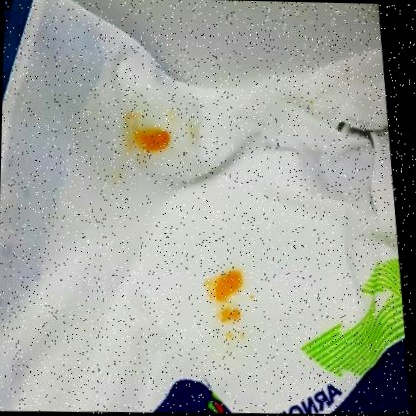kimchi: (126, 127, 173, 160), (212, 272, 244, 302), (215, 304, 241, 323), (227, 327, 246, 343), (116, 111, 135, 123), (249, 295, 253, 302)
